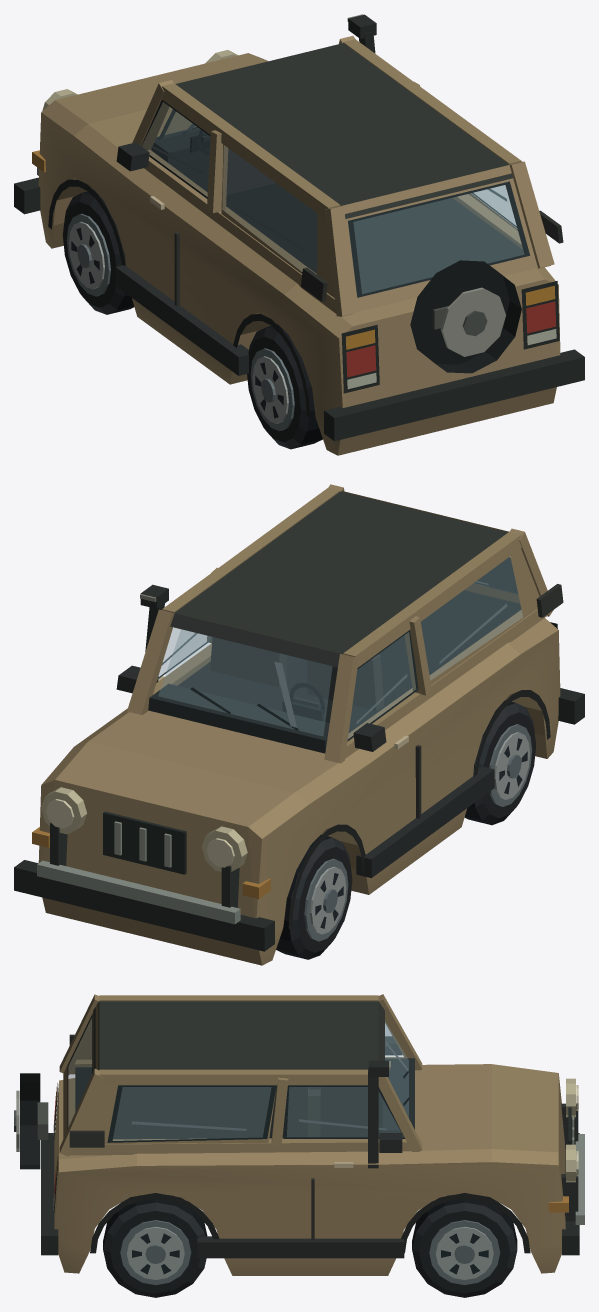
Rendered from tout_terrain_sable.glb.
3 views of the same model, one above another, from view 1: azimuth 30°, elevation 25°; view 2: azimuth 150°, elevation 25°; view 3: azimuth 270°, elevation 25° (orthographic). The views are drawn at different scales.
Visible parts, largest first — view 1: proposition_tout_terrain_sable; view 2: proposition_tout_terrain_sable; view 3: proposition_tout_terrain_sable.
Part boxes in pixels (x1,y1,x2,y2): proposition_tout_terrain_sable: [14, 14, 584, 455]; proposition_tout_terrain_sable: [14, 484, 584, 965]; proposition_tout_terrain_sable: [14, 994, 584, 1297].
Size of the model in its own units: 1.85 by 1.89 by 4.25.
